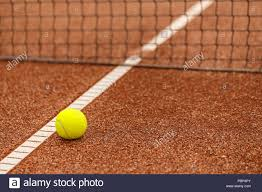tennis_ball: (54, 107, 87, 139)
